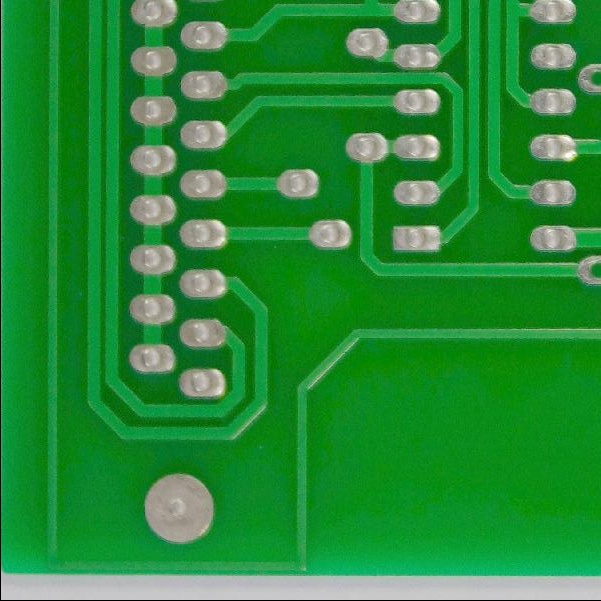missing_hole: (578, 256, 599, 290), (581, 65, 599, 97)
